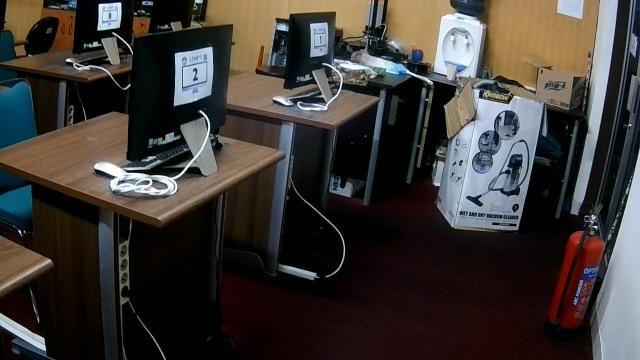AIO PC-Monitor-TV: (126, 22, 232, 176), (283, 10, 336, 103)
APAR: (546, 202, 604, 332)
Dispenser: (433, 0, 488, 80)
Meja: (0, 109, 287, 233), (225, 71, 381, 140)
